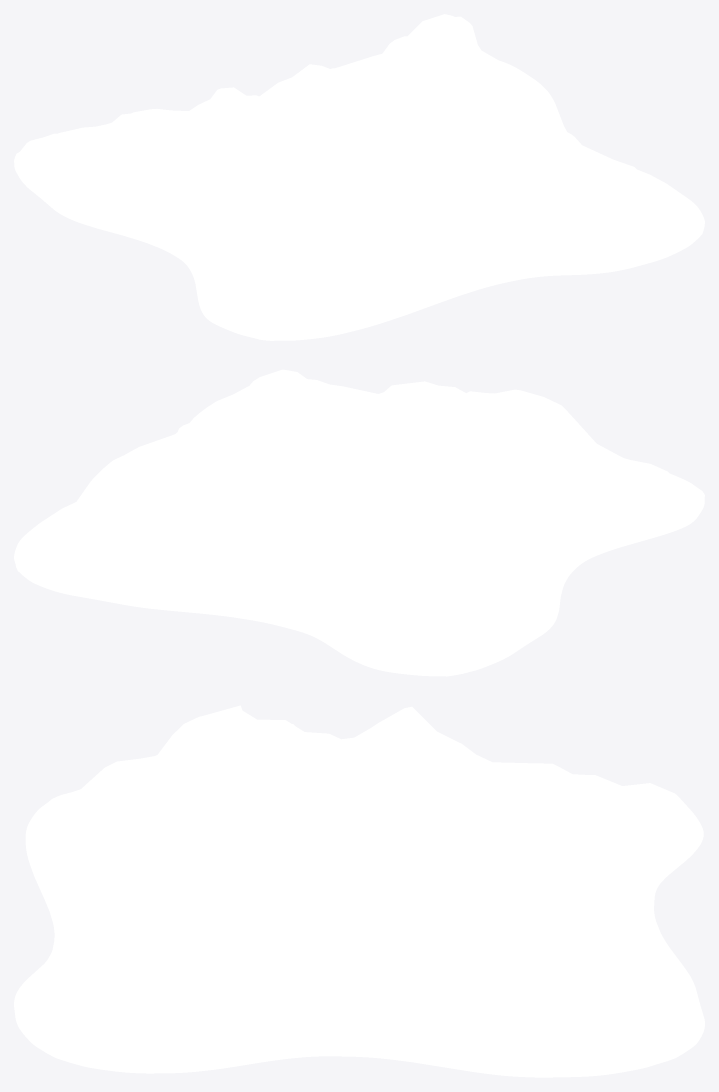
The model's file is polymountain1.glb.
The picture shows the model from 3 angles, top to bottom: view 1: azimuth 30°, elevation 25°; view 2: azimuth 150°, elevation 25°; view 3: azimuth 270°, elevation 25°; orthographic projection. The views are drawn at different scales.
Parts seen in each view (by area): view 1: PolyMountain1; view 2: PolyMountain1; view 3: PolyMountain1.
Part boxes in pixels (x1,y1,x2,y2): PolyMountain1: (14, 14, 704, 340); PolyMountain1: (14, 369, 704, 676); PolyMountain1: (14, 705, 704, 1077).
Size of the model in its own units: 22.61 by 5.57 by 22.35.
1 material, 1 textured.
